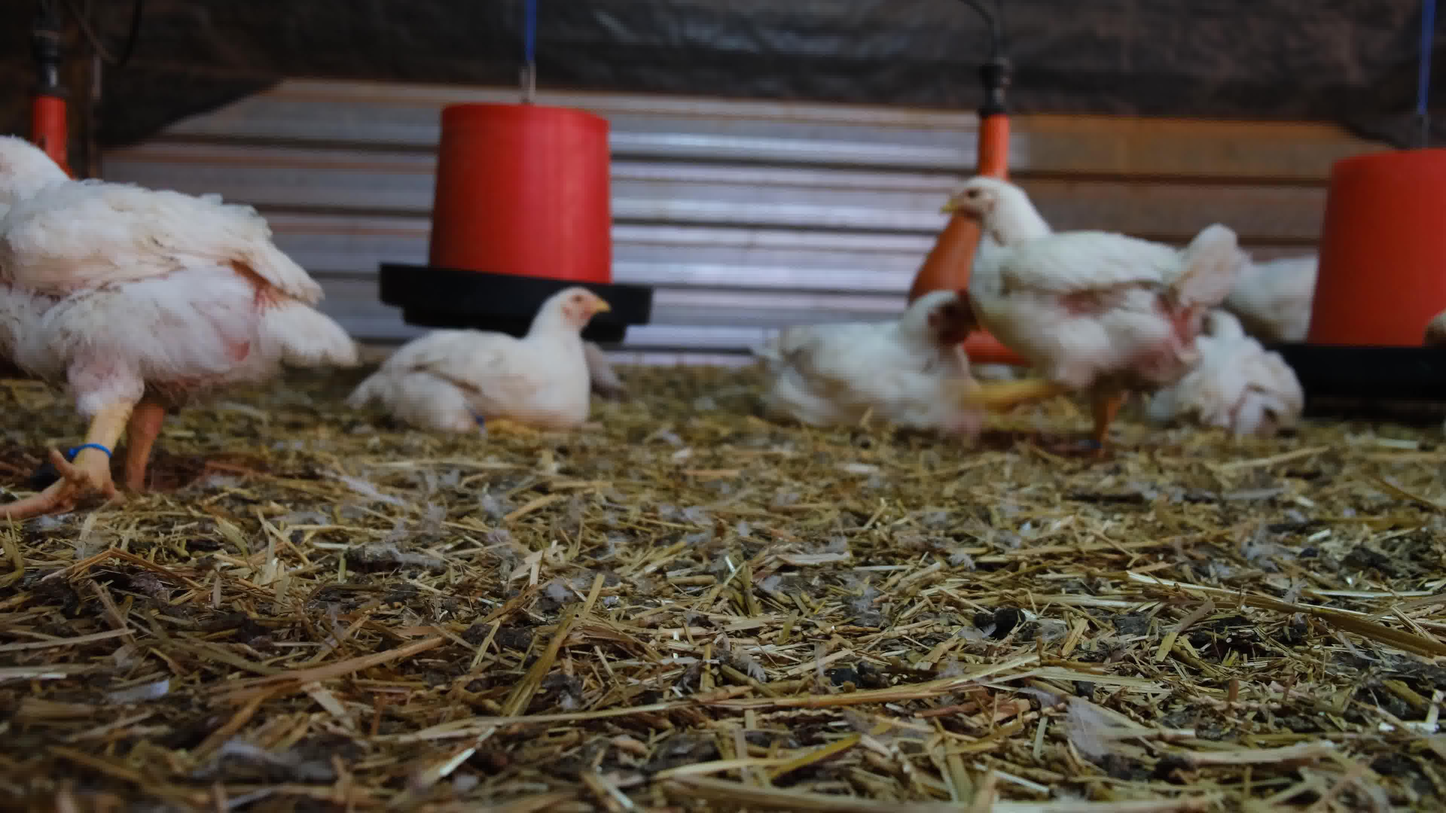AbNormal: (344, 286, 610, 428), (750, 288, 992, 435), (1134, 315, 1307, 439)
Normal: (0, 128, 356, 523), (935, 178, 1241, 477), (1224, 234, 1330, 339)
